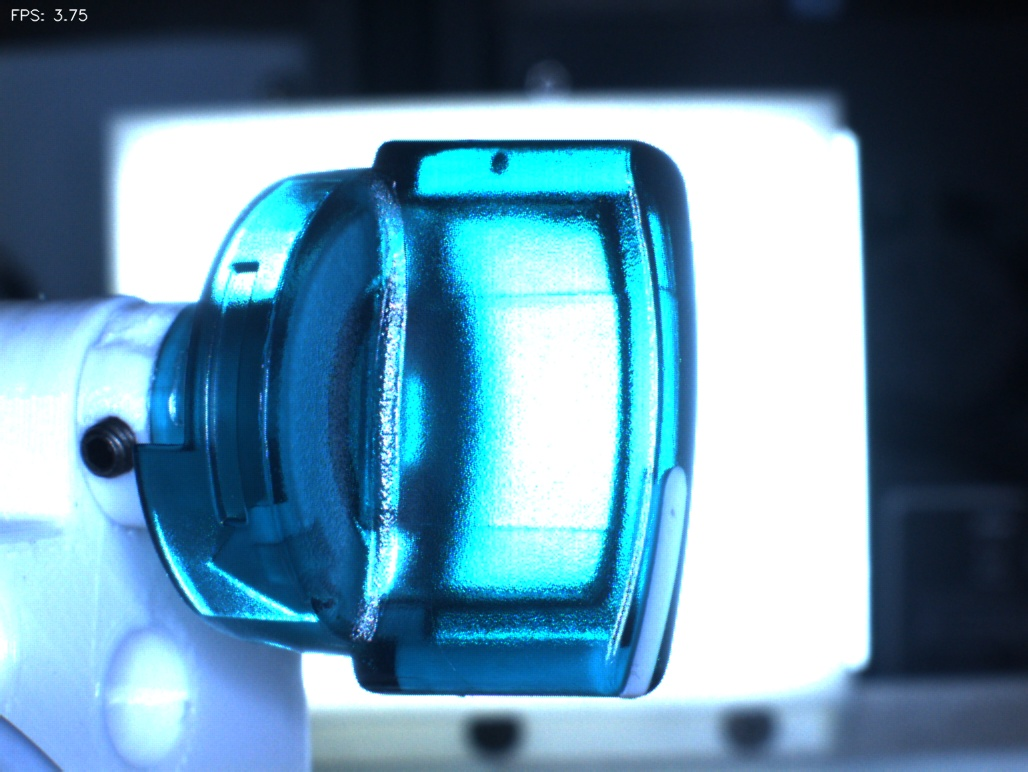Bulle: (469, 126, 537, 191)
